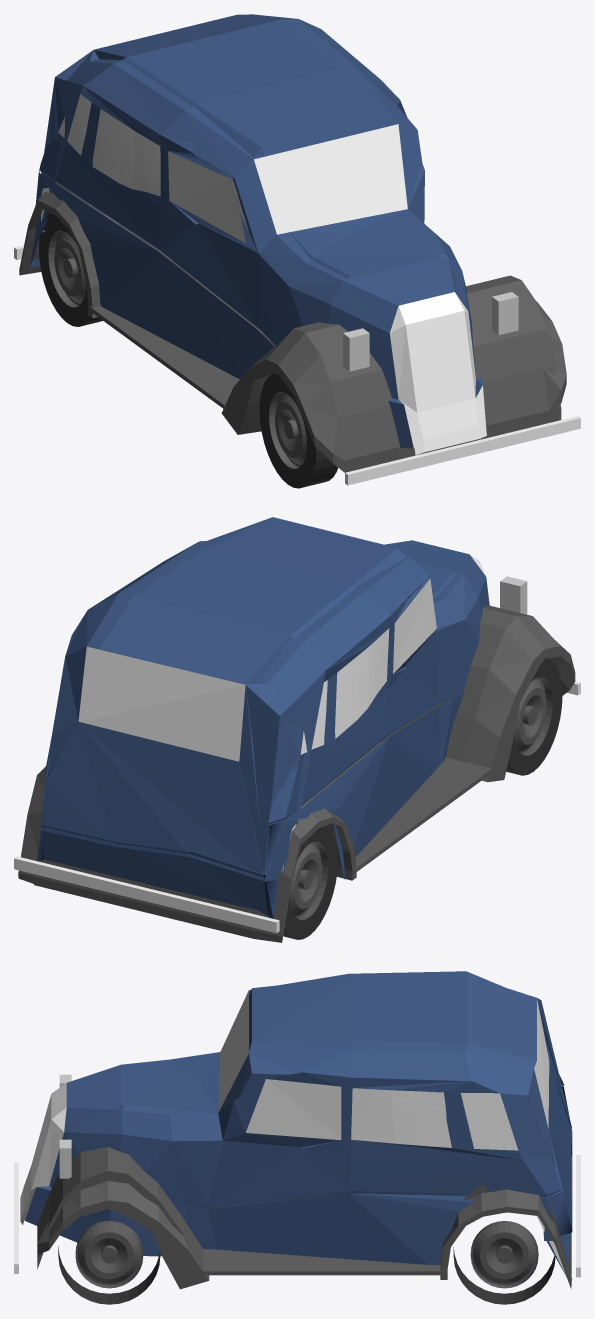
The model's file is austin-light-twelve.dae.
3 views of the same model, one above another, from view 1: azimuth 30°, elevation 25°; view 2: azimuth 150°, elevation 25°; view 3: azimuth 270°, elevation 25° (orthographic). The views are drawn at different scales.
Visible parts, largest first — view 1: Cube_016, Cube_017, Circle_007, Circle_008, Cube_002, Cube, Cube_463; view 2: Cube_016, Cube_017, Cube_002, Circle_008, Circle_007, Cube_001, Cube_463; view 3: Cube_016, Cube_017, Circle_007, Circle_008, Cube_002, Cube_463, Cube_001, Cube.
Part boxes in pixels (x1=…): Cube_016: x1=30, y1=14, x2=486, y2=455; Cube_017: x1=19, y1=179, x2=566, y2=472; Circle_007: x1=259, y1=373, x2=337, y2=488; Circle_008: x1=39, y1=213, x2=102, y2=326; Cube_002: x1=88, y1=280, x2=274, y2=409; Cube: x1=345, y1=416, x2=580, y2=485; Cube_463: x1=343, y1=292, x2=518, y2=371; Cube_016: x1=37, y1=517, x2=489, y2=918; Cube_017: x1=18, y1=605, x2=575, y2=942; Cube_002: x1=314, y1=741, x2=491, y2=873; Circle_008: x1=283, y1=825, x2=337, y2=939; Circle_007: x1=506, y1=658, x2=562, y2=775; Cube_001: x1=14, y1=856, x2=279, y2=933; Cube_463: x1=500, y1=576, x2=527, y2=614; Cube_016: x1=20, y1=971, x2=572, y2=1277; Cube_017: x1=37, y1=1147, x2=571, y2=1289; Circle_007: x1=58, y1=1221, x2=160, y2=1304; Circle_008: x1=453, y1=1212, x2=555, y2=1304; Cube_002: x1=202, y1=1193, x2=445, y2=1275; Cube_463: x1=59, y1=1074, x2=71, y2=1178; Cube_001: x1=576, y1=1155, x2=580, y2=1277; Cube: x1=14, y1=1162, x2=18, y2=1273.
Bounding box in the file's own units: 1.07 × 2.26 × 1.07.
